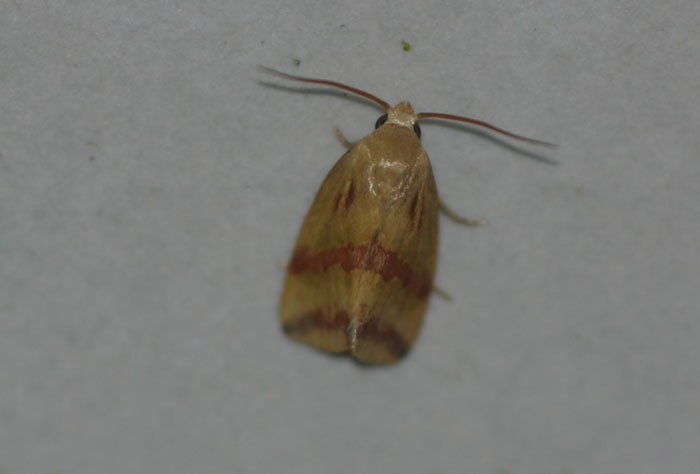Noctuidae: (257, 64, 552, 370)
